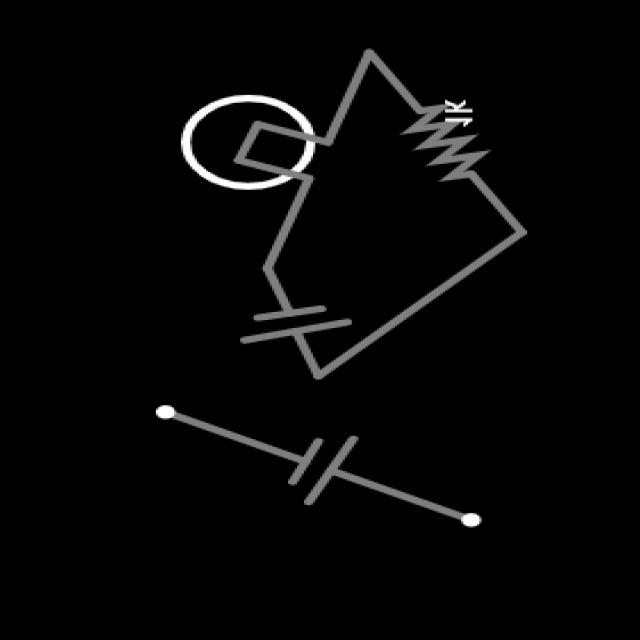Battery: (284, 435, 362, 504), (244, 305, 354, 345)
Light Bulb: (181, 95, 314, 190)
Resistor: (402, 101, 488, 181)
Wire: (311, 228, 528, 379), (155, 403, 304, 464), (333, 471, 481, 527), (318, 47, 375, 144), (262, 174, 313, 271), (465, 172, 530, 237), (363, 51, 426, 113), (260, 265, 293, 310), (292, 334, 322, 377)
